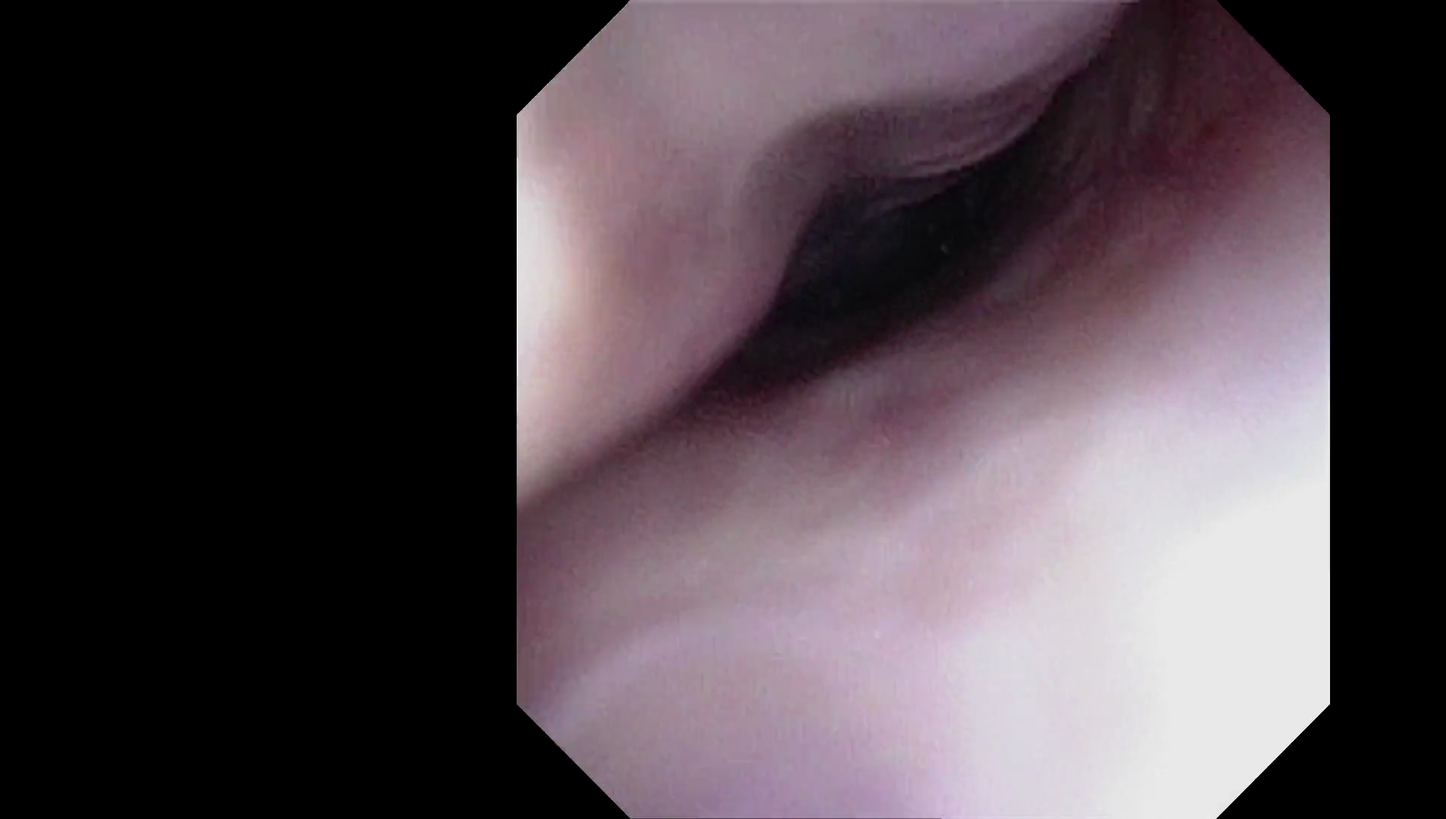close_wall: (880, 482, 1287, 753)
next: (678, 102, 1144, 447)
